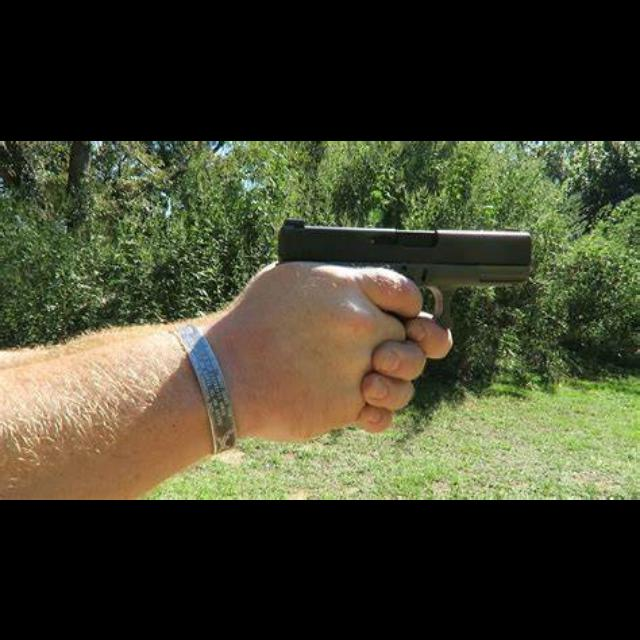handgun: (273, 212, 539, 331)
